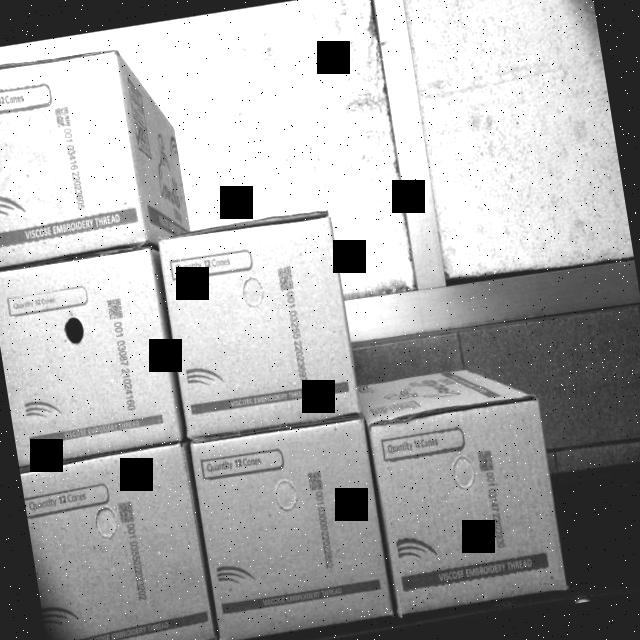box: (156, 211, 358, 444), (196, 417, 395, 640), (373, 400, 574, 616), (0, 248, 184, 464), (23, 448, 219, 640), (0, 42, 146, 266)
